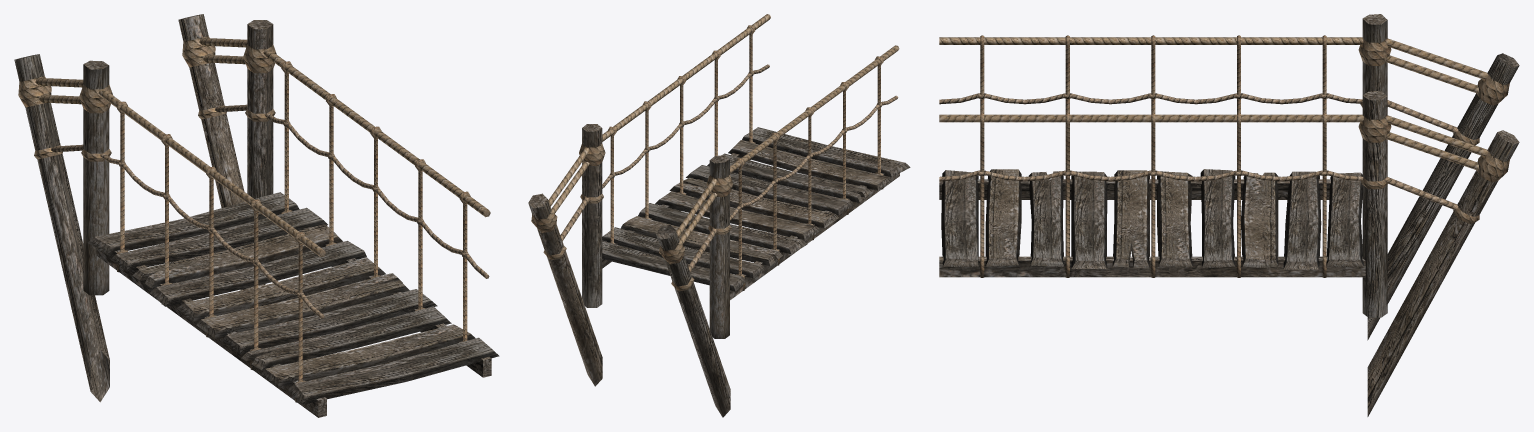
The model's file is RopeBridgeEnd.dae.
3 views of the same model, side by side, from view 1: azimuth 30°, elevation 25°; view 2: azimuth 150°, elevation 25°; view 3: azimuth 270°, elevation 25° (orthographic). The views are drawn at different scales.
Visible parts, largest first — view 1: RopeBridgeEnd; view 2: RopeBridgeEnd; view 3: RopeBridgeEnd.
Boxes of the visible parts, x1=… form: RopeBridgeEnd: x1=14, y1=14, x2=499, y2=417; RopeBridgeEnd: x1=528, y1=14, x2=910, y2=417; RopeBridgeEnd: x1=939, y1=14, x2=1519, y2=416.
Size of what is drawn, in the model's own units: 2.14 by 3.32 by 5.42.
Materials: 1 (1 with a texture image).
